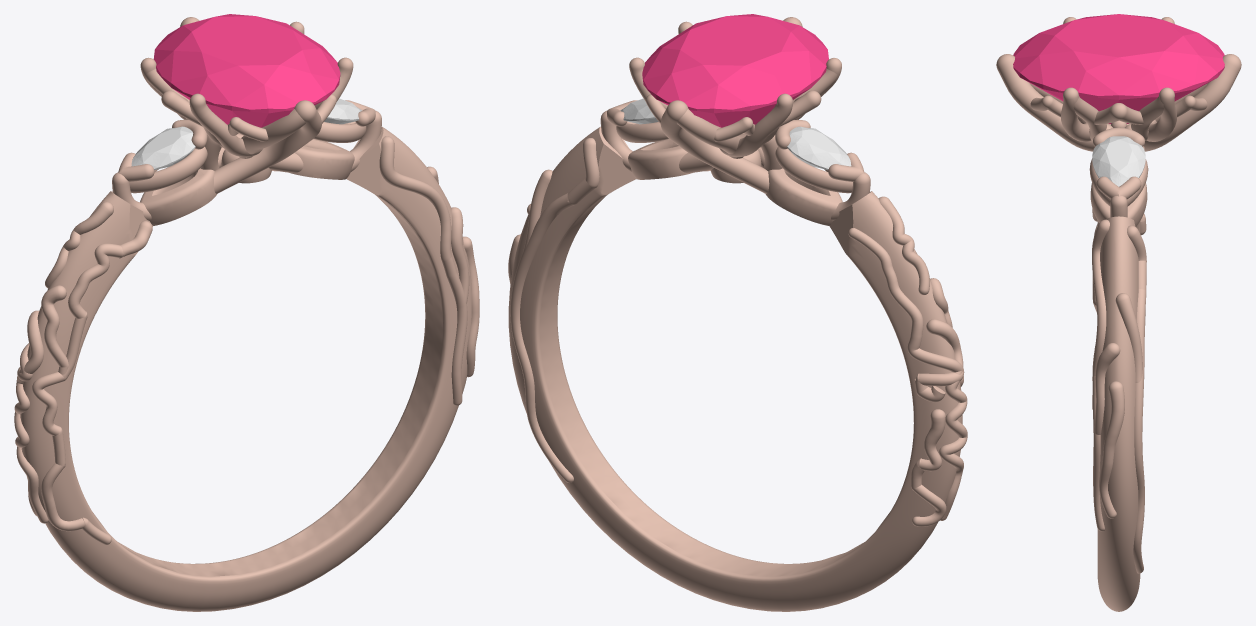
File: IanRGeng.glb
3 renders of one model, left to right at view 1: azimuth 30°, elevation 25°; view 2: azimuth 150°, elevation 25°; view 3: azimuth 270°, elevation 25°, orthographic. The views are drawn at different scales.
Parts seen in each view (by area): view 1: Ian RG for 3d model, Ian pink sapph for 3d model, Ian dia for 3d model.001, Ian dia for 3d model; view 2: Ian RG for 3d model, Ian pink sapph for 3d model, Ian dia for 3d model.001, Ian dia for 3d model; view 3: Ian RG for 3d model, Ian pink sapph for 3d model, Ian dia for 3d model.
Part boxes in pixels (x1,y1,x2,y2): Ian RG for 3d model: [14, 17, 479, 611]; Ian pink sapph for 3d model: [153, 14, 340, 127]; Ian dia for 3d model.001: [131, 126, 195, 170]; Ian dia for 3d model: [324, 98, 362, 124]; Ian RG for 3d model: [508, 17, 967, 611]; Ian pink sapph for 3d model: [642, 14, 828, 127]; Ian dia for 3d model.001: [787, 126, 851, 169]; Ian dia for 3d model: [620, 98, 658, 124]; Ian RG for 3d model: [996, 17, 1241, 611]; Ian pink sapph for 3d model: [1013, 14, 1224, 123]; Ian dia for 3d model: [1092, 136, 1145, 186].
Size of the model in its own units: 24.19 by 28.46 by 11.44.
